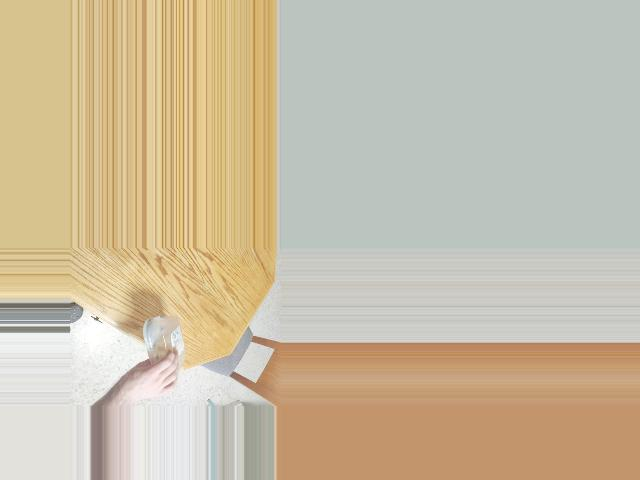cheese: (138, 327, 186, 381)
